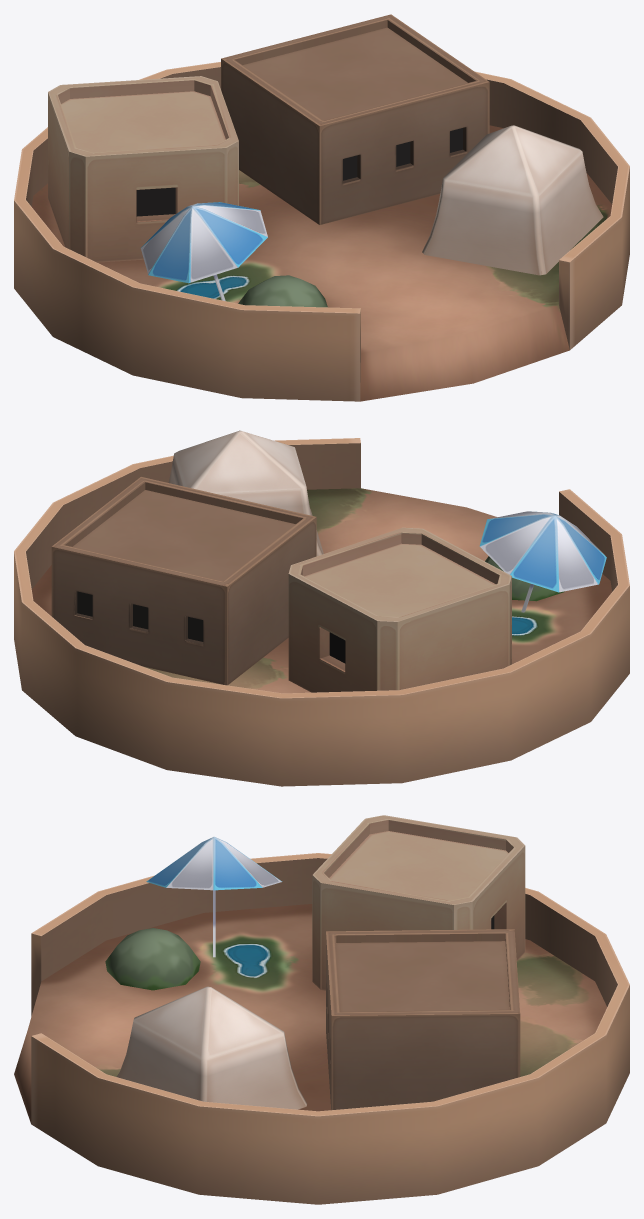
File: baseModel.fbx
3 renders of one model, top to bottom at view 1: azimuth 30°, elevation 25°; view 2: azimuth 150°, elevation 25°; view 3: azimuth 270°, elevation 25°, orthographic.
Visible parts, largest first — view 1: wall, house2, house1, house3, parasol1, green; view 2: wall, house2, house1, house3, parasol1, green; view 3: wall, house2, house1, house3, green, parasol1.
Part boxes in pixels (box(x1,y1,x2,y2)): wall: box(14, 62, 629, 401); house2: box(221, 14, 489, 224); house1: box(48, 76, 238, 262); house3: box(422, 125, 603, 275); parasol1: box(140, 202, 267, 283); green: box(238, 275, 327, 307); wall: box(14, 438, 629, 786); house2: box(51, 477, 316, 685); house1: box(288, 527, 511, 692); house3: box(168, 430, 323, 556); parasol1: box(479, 511, 606, 592); green: box(485, 556, 564, 601); wall: box(14, 853, 629, 1204); house2: box(326, 929, 520, 1110); house1: box(312, 815, 525, 990); house3: box(117, 986, 307, 1109); green: box(105, 928, 200, 990); parasol1: box(146, 836, 282, 890).
Bounding box in the file's own units: 99 × 26.87 × 97.82.
Materials: 1 (1 with a texture image).
